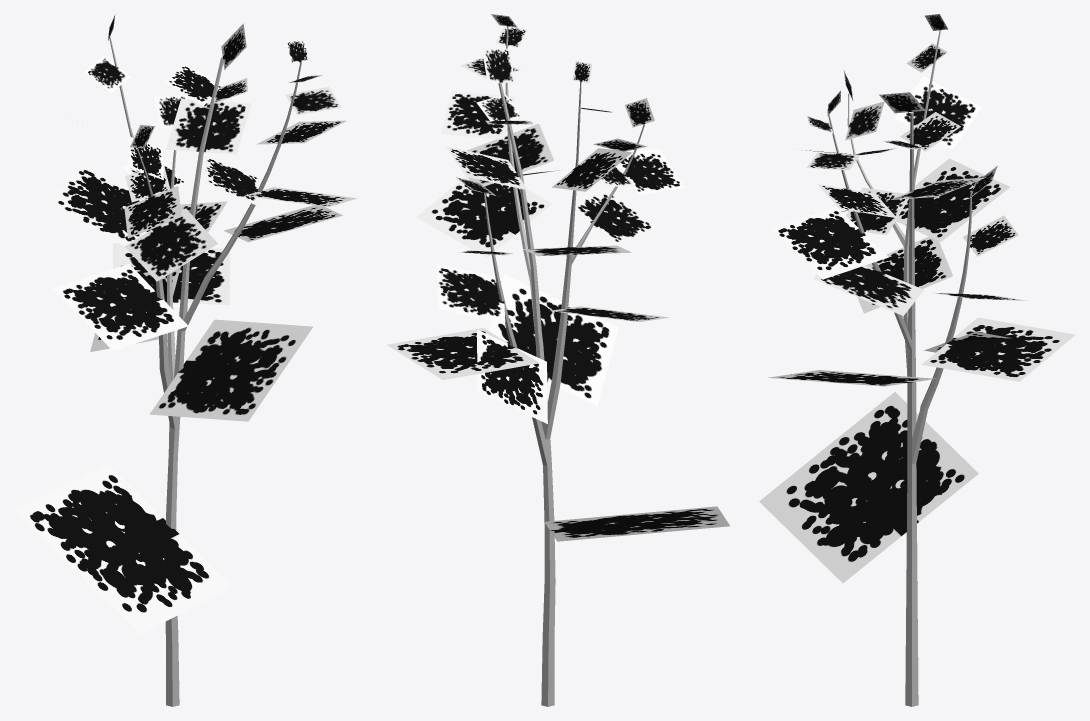
File: M_Tree_3.fbx
3 views of the same model, side by side, from view 1: azimuth 30°, elevation 25°; view 2: azimuth 150°, elevation 25°; view 3: azimuth 270°, elevation 25° (orthographic). The views are drawn at different scales.
Parts seen in each view (by area): view 1: pPlane28, Stem, M_Tree_1:pPlane1; view 2: pPlane28, Stem, M_Tree_1:pPlane1; view 3: pPlane28, Stem.
Boxes of the visible parts, box(x1,y1,x2,y2) form: pPlane28: box(14, 14, 357, 633); Stem: box(109, 36, 301, 706); M_Tree_1:pPlane1: box(180, 201, 227, 231); pPlane28: box(387, 14, 729, 541); Stem: box(484, 26, 644, 706); M_Tree_1:pPlane1: box(436, 264, 505, 322); pPlane28: box(759, 14, 1075, 583); Stem: box(827, 30, 971, 706).
Size of the model in its own units: 10.68 by 9.77 by 22.77.
